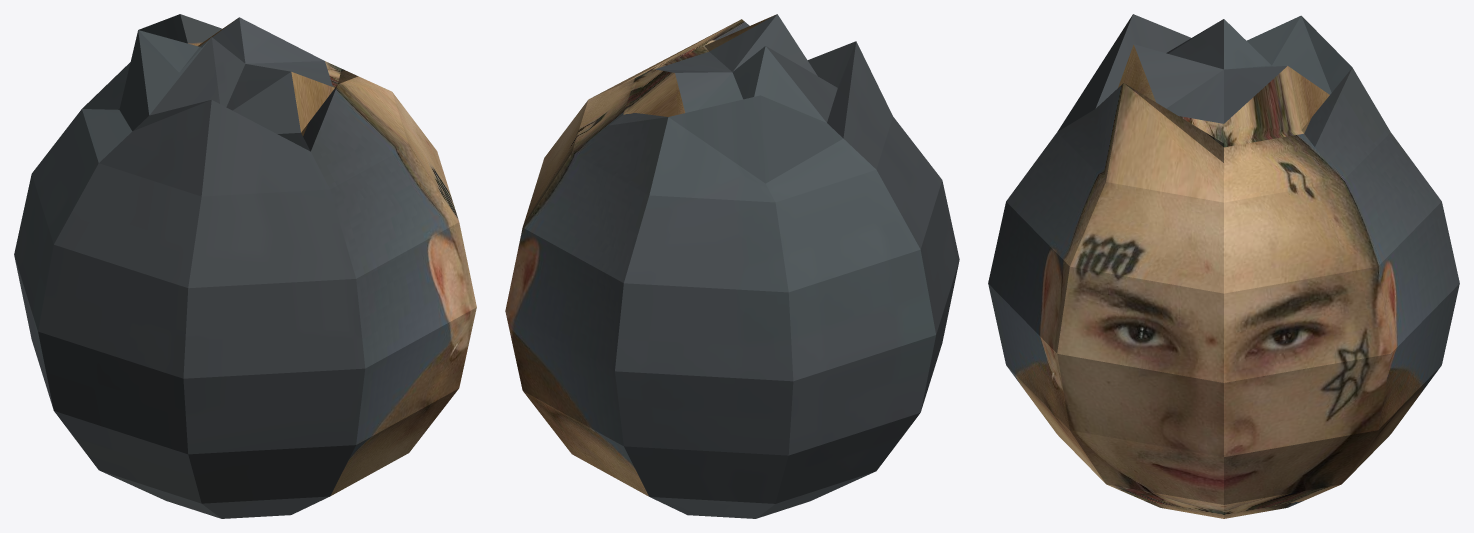
File: Morgen.fbx
The picture shows the model from 3 angles, left to right: view 1: azimuth 30°, elevation 25°; view 2: azimuth 150°, elevation 25°; view 3: azimuth 270°, elevation 25°; orthographic projection.
Parts seen in each view (by area): view 1: Sphere; view 2: Sphere; view 3: Sphere.
Part boxes in pixels (left/top/right/bottom): Sphere: left=14, top=14, right=476, bottom=518; Sphere: left=505, top=14, right=959, bottom=518; Sphere: left=988, top=14, right=1459, bottom=518.
Bounding box in the file's own units: 200 × 216 × 200.
